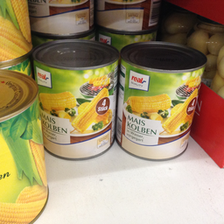corn: (114, 41, 206, 162), (30, 38, 120, 161), (1, 69, 50, 224)
